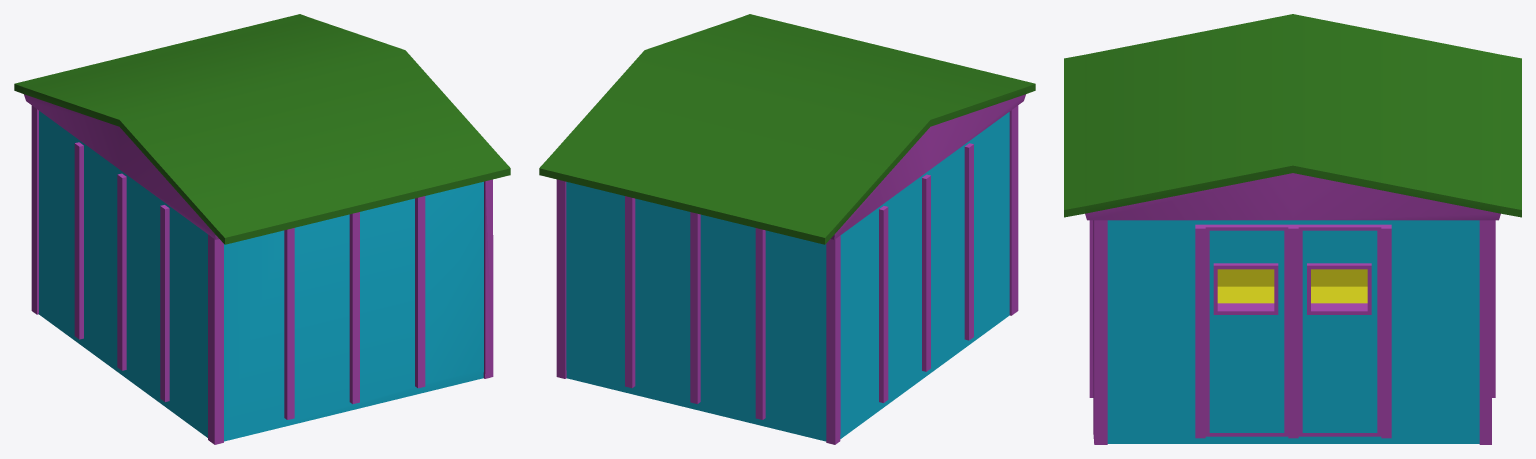
File: mesh_cabanon.fbx
3 views of the same model, side by side, from view 1: azimuth 30°, elevation 25°; view 2: azimuth 150°, elevation 25°; view 3: azimuth 270°, elevation 25° (orthographic). The views are drawn at different scales.
Visible parts, largest first — view 1: Cabanon; view 2: Cabanon; view 3: Cabanon.
Part boxes in pixels (box(x1,y1,x2,y2)): Cabanon: box(14, 14, 510, 444); Cabanon: box(539, 14, 1035, 444); Cabanon: box(1064, 14, 1521, 444).
Size of the model in its own units: 280 by 240 by 353.
